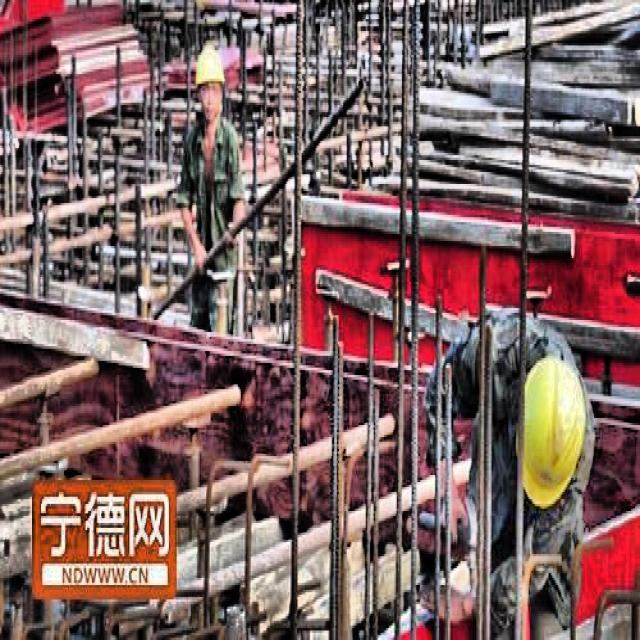helmet: (516, 348, 591, 520), (194, 41, 227, 129)
